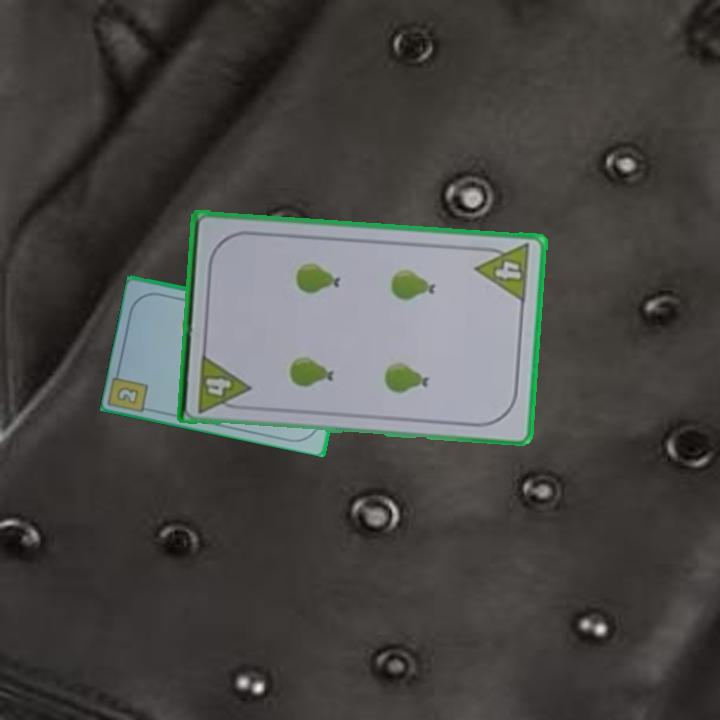2b: (113, 383, 142, 407)
4p: (472, 240, 533, 306), (194, 350, 253, 415)
